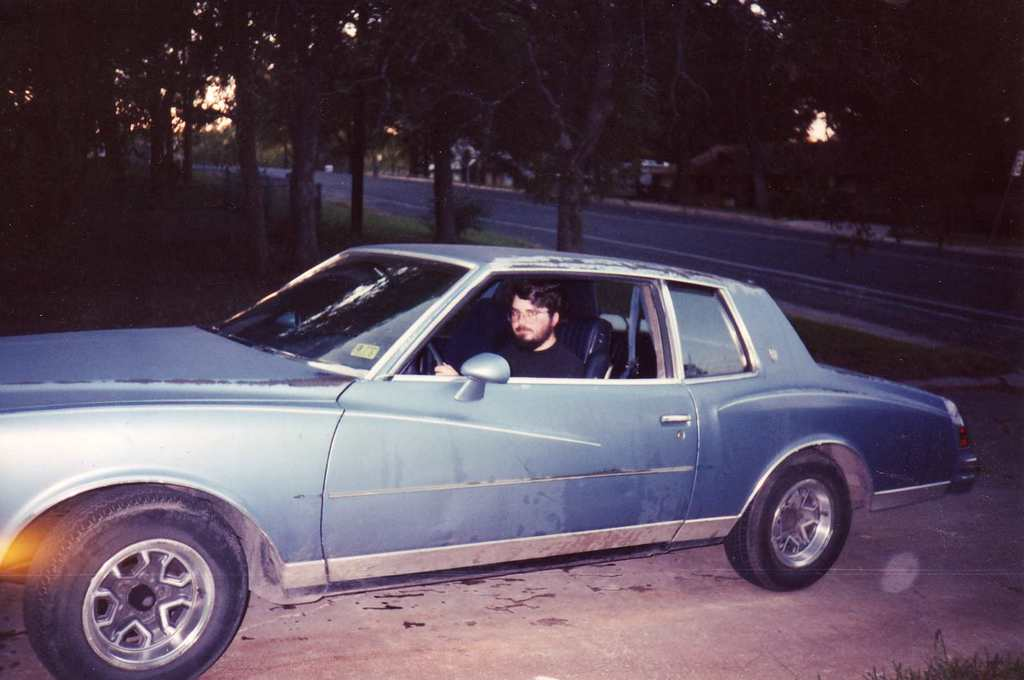cars: (0, 235, 980, 679)
